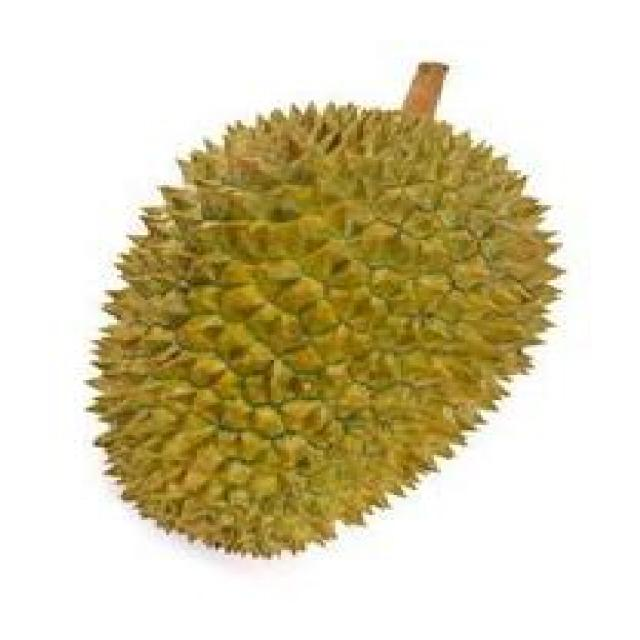fruit: (43, 232, 391, 598)
